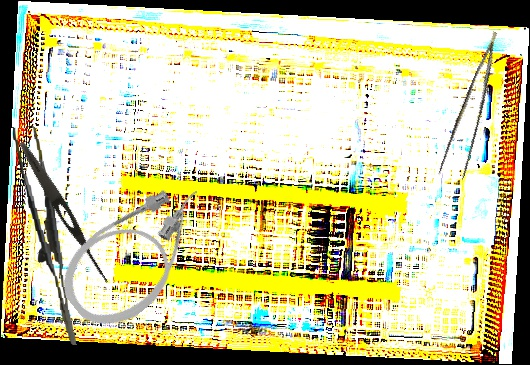Cannula: (46, 167, 234, 343)
Dressing Forceps: (15, 138, 115, 288)
Tissue Forceps: (12, 123, 77, 349), (433, 31, 521, 185)
